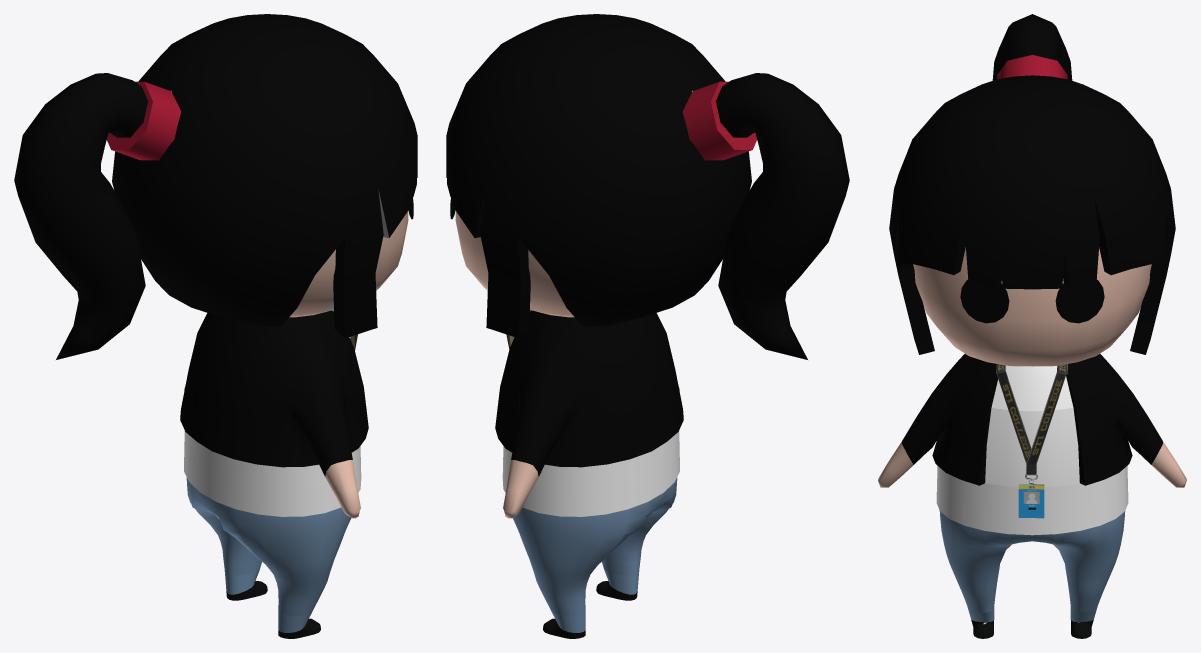
File: girl2.glb
3 renders of one model, left to right at view 1: azimuth 30°, elevation 25°; view 2: azimuth 150°, elevation 25°; view 3: azimuth 270°, elevation 25°, orthographic. The views are drawn at different scales.
Visible parts, largest first — view 1: Mesh_Head, Mesh_Body, Mesh_Leg; view 2: Mesh_Head, Mesh_Body, Mesh_Leg; view 3: Mesh_Head, Mesh_Body, Mesh_Leg, id_front.001.
Boxes of the visible parts, x1=… form: Mesh_Head: x1=14, y1=14, x2=417, y2=359; Mesh_Body: x1=180, y1=310, x2=368, y2=518; Mesh_Leg: x1=186, y1=477, x2=351, y2=638; Mesh_Head: x1=446, y1=14, x2=849, y2=359; Mesh_Body: x1=495, y1=310, x2=683, y2=518; Mesh_Leg: x1=512, y1=477, x2=677, y2=638; Mesh_Head: x1=889, y1=14, x2=1175, y2=366; Mesh_Body: x1=878, y1=354, x2=1186, y2=535; Mesh_Leg: x1=939, y1=511, x2=1125, y2=638; id_front.001: x1=996, y1=364, x2=1067, y2=518.
Size of the model in its own units: 139 by 202 by 106.
Materials: 15 (3 with a texture image).
